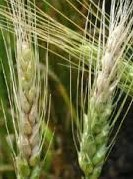Wheat scab: (77, 29, 128, 171), (5, 40, 49, 179)
